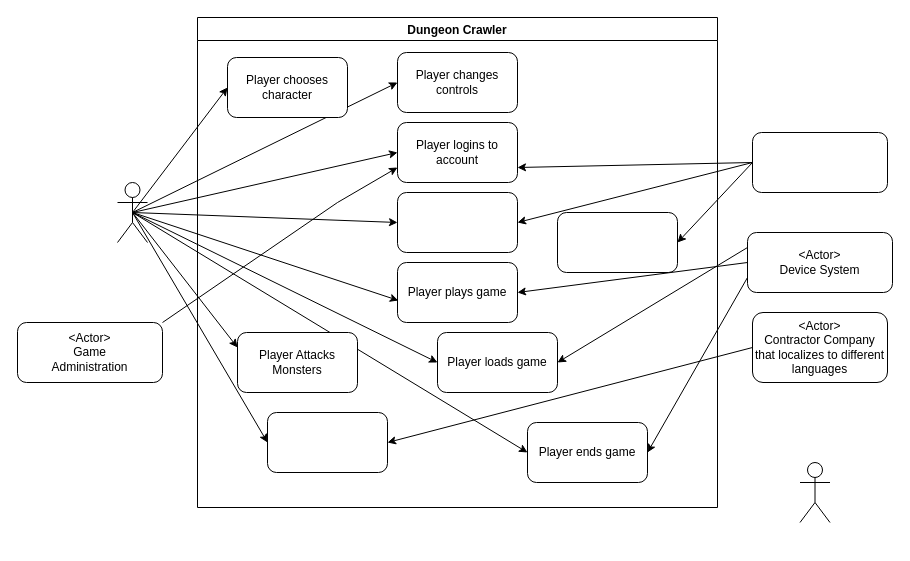
This 910x561 diagram has some shape labels left out. Each missing label, with the centre of its shape:
<Actor> Third-party database: (x=820, y=162)
Player: (x=132, y=212)
Player changes language: (x=327, y=442)
Player saves Score: (x=457, y=222)
Record number of players worldwide: (x=617, y=242)
Shareholder: (x=814, y=492)
